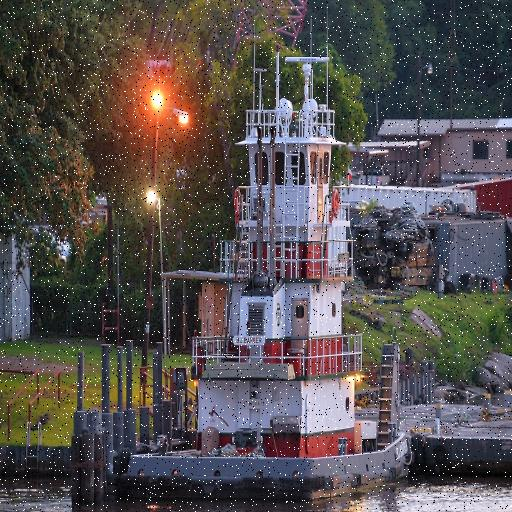tugboat: (104, 44, 416, 512)
